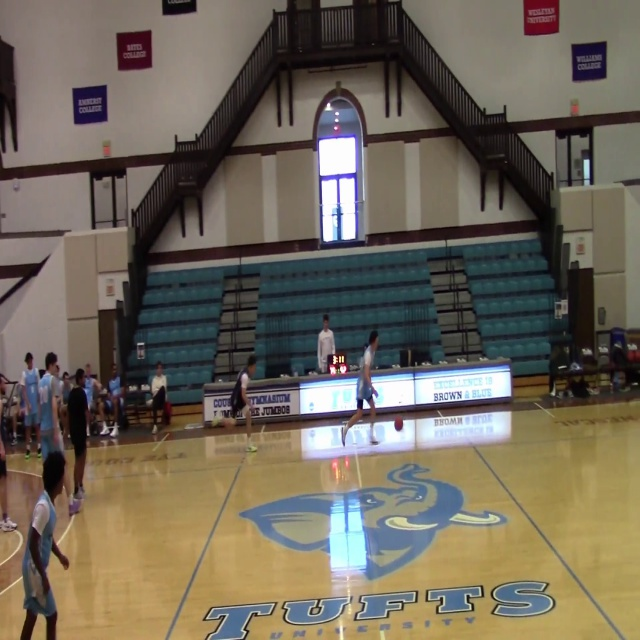Basketball: (394, 417, 403, 431)
